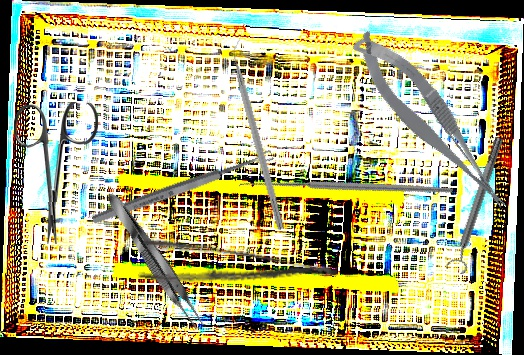Chopper: (226, 34, 295, 232)
Dressing Forceps: (137, 234, 339, 310)
Fixation Ring: (444, 134, 511, 276)
Hook Surgical: (234, 91, 454, 291)
Iris Scissors: (11, 101, 99, 245)
Micro Scissor: (344, 16, 516, 230)
Surgical Spoon: (90, 148, 275, 227)
Tissue Forceps: (100, 186, 210, 334)
